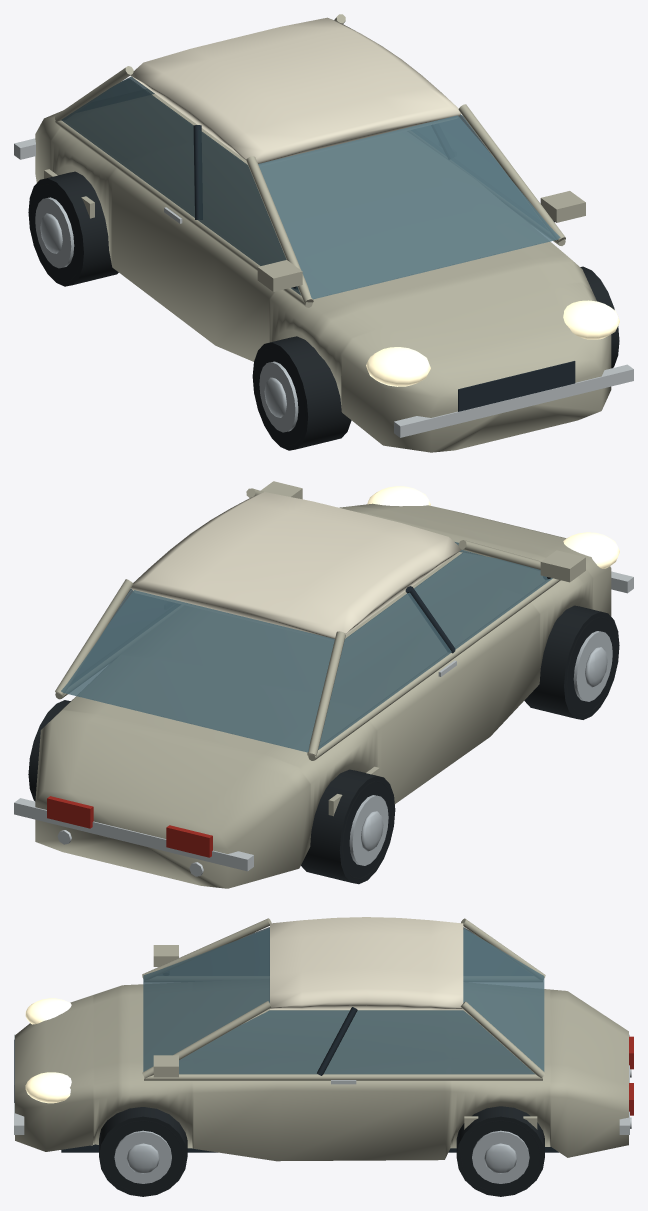
The model's file is deesse.glb.
The picture shows the model from 3 angles, top to bottom: view 1: azimuth 30°, elevation 25°; view 2: azimuth 150°, elevation 25°; view 3: azimuth 270°, elevation 25°; orthographic projection. The views are drawn at different scales.
Parts seen in each view (by area): view 1: exterior-paint, windows, secondary-paint, tire-front-left, tire-rear-left, chrome, headlights, black-trim, rim-front-left, rim-rear-left, tire-front-right; view 2: exterior-paint, windows, secondary-paint, tire-rear-left, tire-front-left, chrome, headlights, taillights, rim-rear-left, rim-front-left, tire-rear-right; view 3: exterior-paint, windows, secondary-paint, tire-front-right, tire-rear-right, rim-rear-right, rim-front-right, headlights, black-trim, chrome.
Part boxes in pixels (x1=…): exterior-paint: x1=35, y1=14, x2=611, y2=452; windows: x1=61, y1=76, x2=560, y2=299; secondary-paint: x1=130, y1=17, x2=460, y2=165; tire-front-left: x1=252, y1=336, x2=351, y2=450; tire-rear-left: x1=28, y1=171, x2=118, y2=286; chrome: x1=14, y1=138, x2=633, y2=437; headlights: x1=366, y1=300, x2=619, y2=386; black-trim: x1=193, y1=125, x2=575, y2=411; rim-front-left: x1=259, y1=361, x2=298, y2=432; rim-rear-left: x1=35, y1=197, x2=74, y2=268; tire-front-right: x1=580, y1=266, x2=619, y2=368; exterior-paint: x1=35, y1=481, x2=611, y2=888; windows: x1=61, y1=542, x2=552, y2=752; secondary-paint: x1=131, y1=492, x2=461, y2=639; tire-rear-left: x1=301, y1=769, x2=395, y2=884; tire-front-left: x1=524, y1=605, x2=619, y2=719; chrome: x1=14, y1=571, x2=633, y2=876; headlights: x1=367, y1=486, x2=619, y2=568; taillights: x1=47, y1=796, x2=212, y2=857; rim-rear-left: x1=349, y1=795, x2=388, y2=865; rim-front-left: x1=573, y1=631, x2=612, y2=701; tire-rear-right: x1=28, y1=700, x2=70, y2=801; exterior-paint: x1=15, y1=918, x2=628, y2=1161; windows: x1=143, y1=927, x2=544, y2=1074; secondary-paint: x1=270, y1=917, x2=463, y2=1009; tire-front-right: x1=99, y1=1107, x2=187, y2=1196; tire-rear-right: x1=456, y1=1106, x2=544, y2=1196; rim-rear-right: x1=472, y1=1130, x2=529, y2=1183; rim-front-right: x1=114, y1=1130, x2=171, y2=1183; headlights: x1=25, y1=998, x2=71, y2=1103; black-trim: x1=14, y1=1007, x2=558, y2=1152; chrome: x1=14, y1=1034, x2=631, y2=1134.
Bounding box in the file's own units: 1.92 × 1.29 × 3.92.
